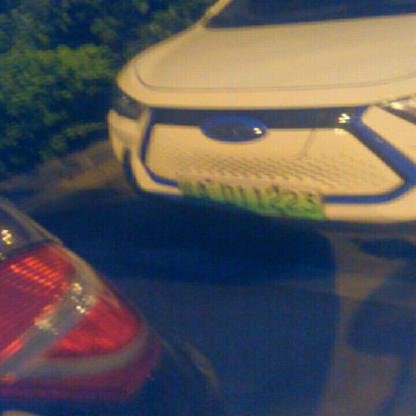lp: (178, 177, 326, 219)
